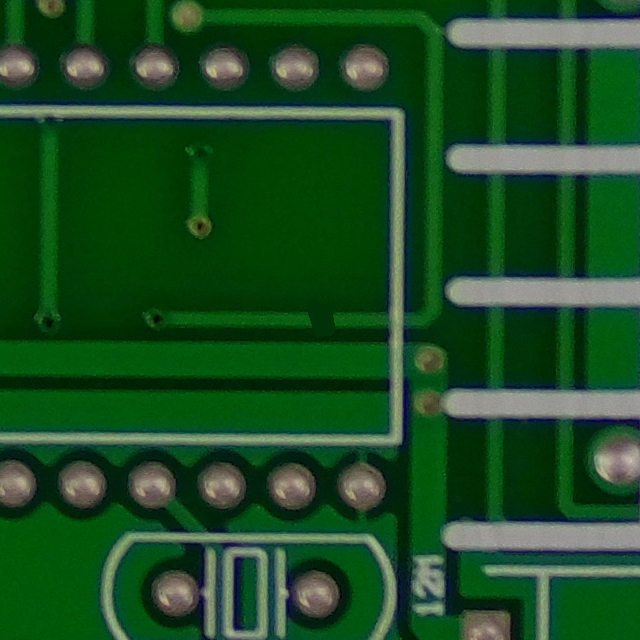open_circuit: (297, 302, 344, 338)
